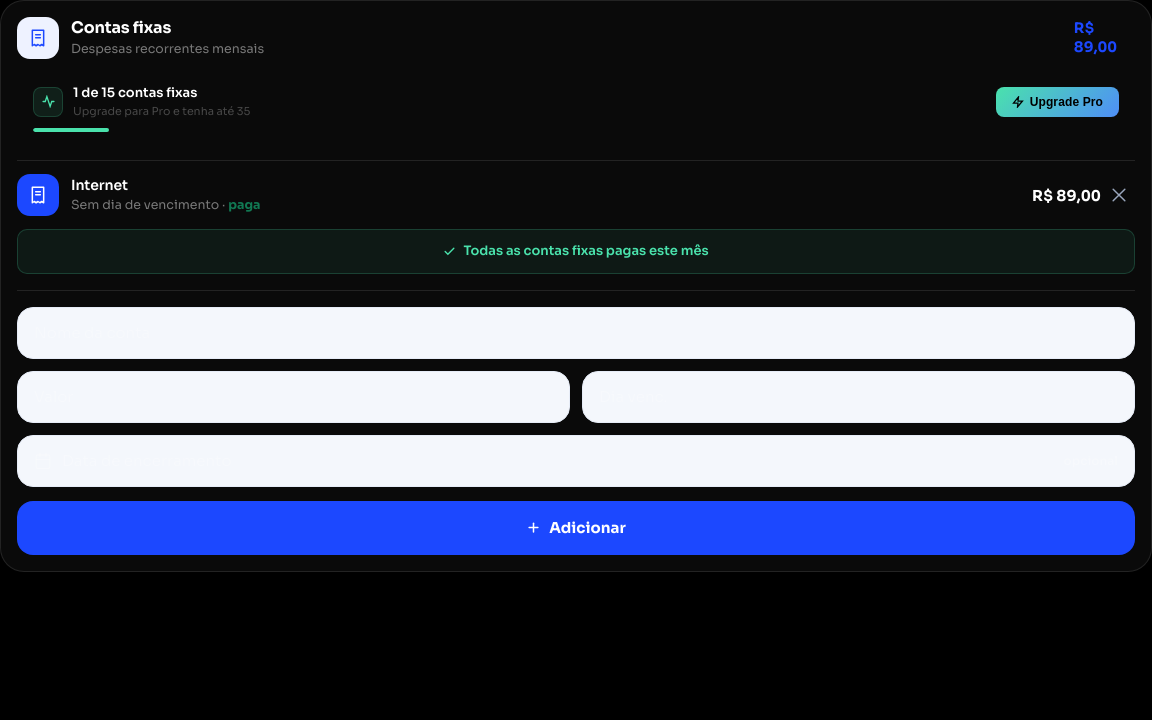
Test case: o detalhe de uma conta já paga mostra a data do pagamento e não oferece pagar de novo
The image size is (1152, 720).
Click the button "Internet Sem dia de vencimento · paga R$ 89,00": click(38, 195) [17, 161, 1101, 229]
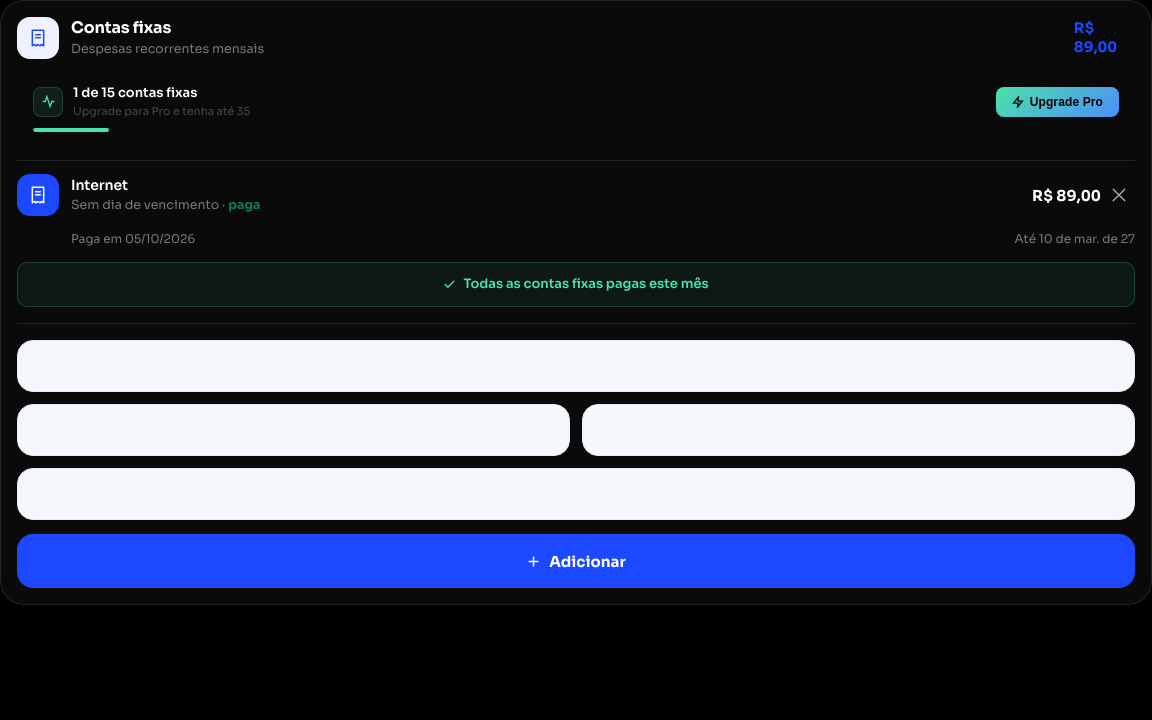
Expected: the text "Paga em 05/10/2026" is shown, [71, 229, 195, 248]
Expected: the text "Até 10 de mar. de 27" is shown, [1015, 229, 1135, 248]
